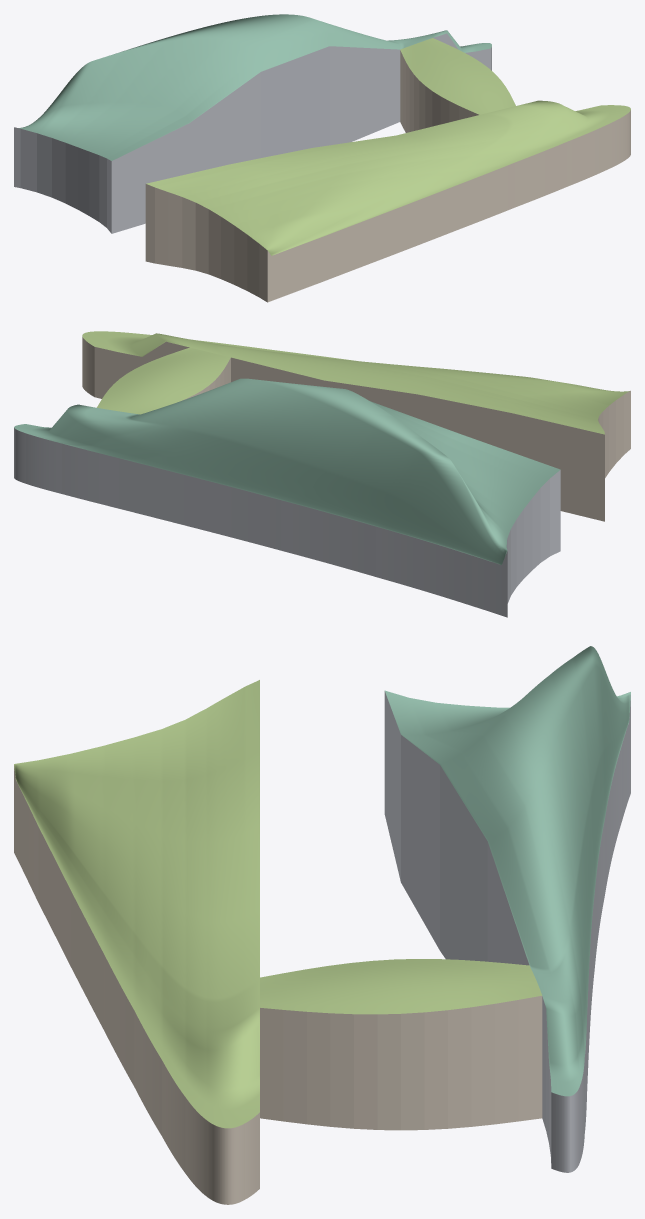
File: loop-parts.glb
The picture shows the model from 3 angles, top to bottom: view 1: azimuth 30°, elevation 25°; view 2: azimuth 150°, elevation 25°; view 3: azimuth 270°, elevation 25°; orthographic projection. The views are drawn at different scales.
Parts seen in each view (by area): view 1: north/coastal-bank, east/top, east/coastal-bank, north/top, connection/top, connection/coastal-bank; view 2: north/top, north/coastal-bank, east/coastal-bank, east/top, connection/top; view 3: east/top, north/top, connection/coastal-bank, north/coastal-bank, east/coastal-bank, connection/top.
Boxes of the visible parts, bbox=[...] form: north/coastal-bank: bbox=[14, 33, 491, 233]; east/top: bbox=[146, 100, 630, 255]; east/coastal-bank: bbox=[145, 110, 630, 302]; north/top: bbox=[18, 14, 491, 160]; connection/top: bbox=[400, 38, 515, 114]; connection/coastal-bank: bbox=[400, 50, 478, 132]; north/top: bbox=[14, 378, 560, 564]; north/coastal-bank: bbox=[14, 428, 560, 617]; east/coastal-bank: bbox=[82, 337, 630, 521]; east/top: bbox=[82, 331, 629, 434]; connection/top: bbox=[97, 347, 230, 414]; east/top: bbox=[14, 680, 259, 1128]; north/top: bbox=[384, 646, 630, 1096]; connection/coastal-bank: bbox=[260, 996, 542, 1130]; north/coastal-bank: bbox=[384, 691, 630, 1172]; east/coastal-bank: bbox=[14, 765, 259, 1204]; connection/top: bbox=[260, 959, 541, 1014].
Size of the model in its own units: 10.22 by 2.63 by 6.47.
